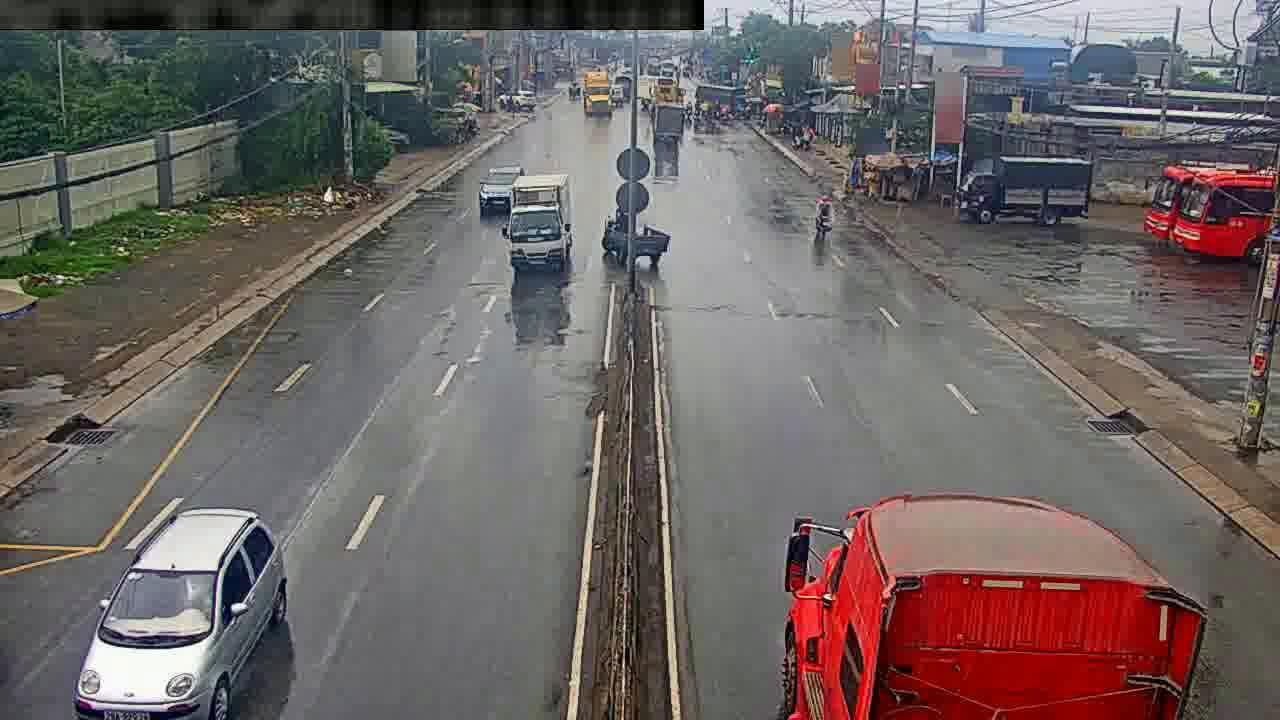car: (72, 503, 287, 720), (479, 173, 511, 215)
container: (777, 491, 1212, 720), (507, 175, 571, 271), (582, 67, 622, 115)
motorbike: (479, 173, 511, 215), (815, 194, 835, 241)
